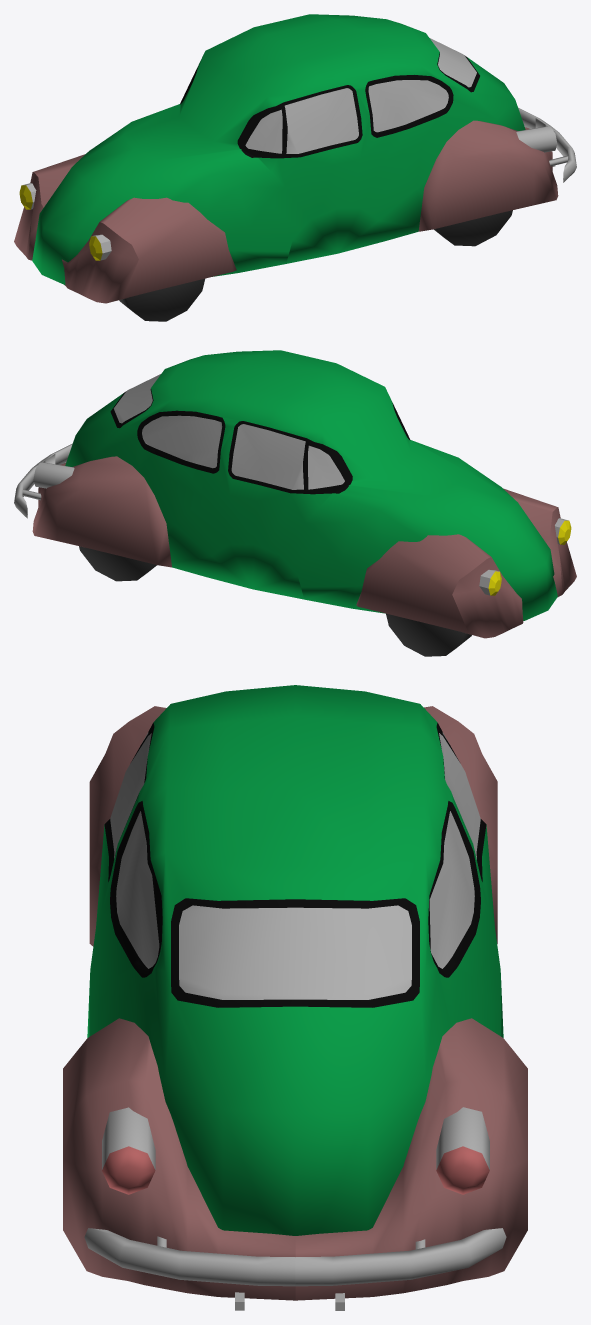
The model's file is Car.fbx.
3 views of the same model, one above another, from view 1: azimuth 30°, elevation 25°; view 2: azimuth 150°, elevation 25°; view 3: azimuth 270°, elevation 25° (orthographic). The views are drawn at different scales.
Parts seen in each view (by area): view 1: pSphere1, pCube4, pCube11, pCube5, pCylinder8, pCylinder6, pCube10, pCylinder1, pCylinder9; view 2: pSphere1, pCube5, pCube11, pCube4, pCylinder7, pCylinder5, pCube10, pCylinder2, pCylinder10; view 3: pSphere1, pCube11, pCube10, pCube4, pCylinder2, pCylinder1, pCube5.
Boxes of the visible parts, x1,y1,x2,y2 form: pSphere1: (32, 14, 525, 284); pCube4: (62, 197, 236, 303); pCube11: (418, 120, 558, 231); pCube5: (14, 154, 85, 260); pCylinder8: (119, 278, 204, 321); pCylinder6: (434, 210, 512, 246); pCube10: (518, 108, 576, 182); pCylinder1: (516, 126, 557, 152); pCylinder9: (89, 234, 111, 260); pSphere1: (65, 350, 557, 620); pCube5: (356, 534, 523, 638); pCube11: (32, 456, 171, 567); pCube4: (503, 488, 576, 597); pCylinder7: (386, 613, 471, 656); pCylinder5: (79, 546, 156, 581); pCube10: (14, 443, 72, 518); pCylinder2: (33, 462, 74, 488); pCylinder10: (479, 569, 501, 595); pSphere1: (87, 685, 503, 1235); pCube11: (63, 1018, 527, 1300); pCube10: (84, 1228, 506, 1286); pCube4: (89, 706, 166, 946); pCylinder2: (436, 1107, 489, 1194); pCylinder1: (102, 1107, 155, 1194); pCube5: (424, 706, 497, 943).
Bounding box in the file's own units: 1220 × 461 × 482.
